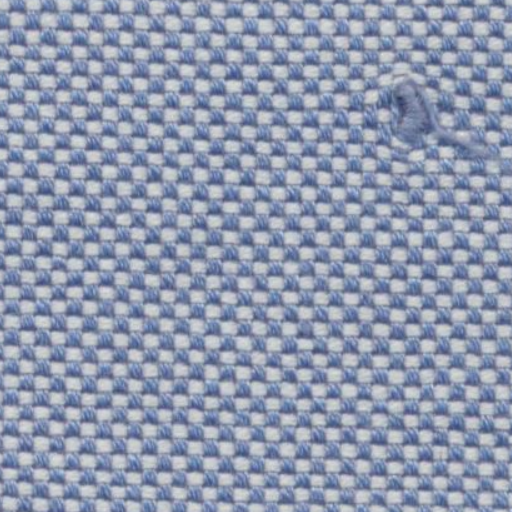MianQiu: (348, 50, 484, 182)
